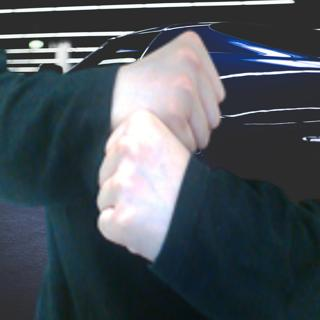CAREFUL: (89, 22, 234, 272)
